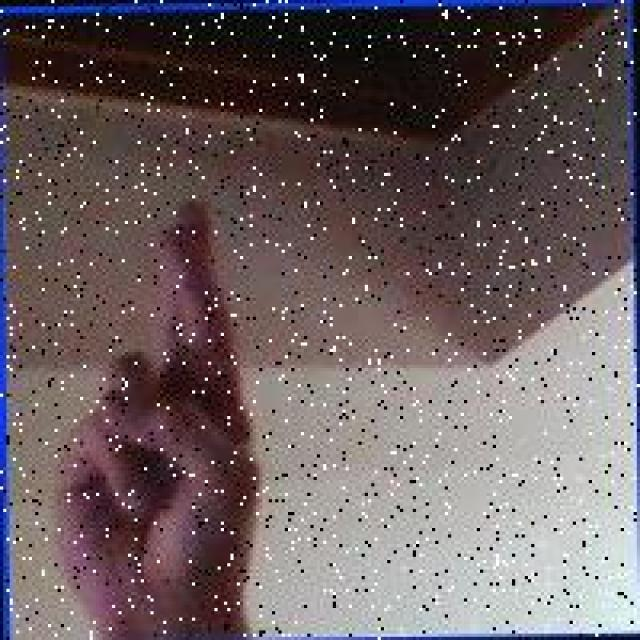R: (42, 194, 272, 635)
